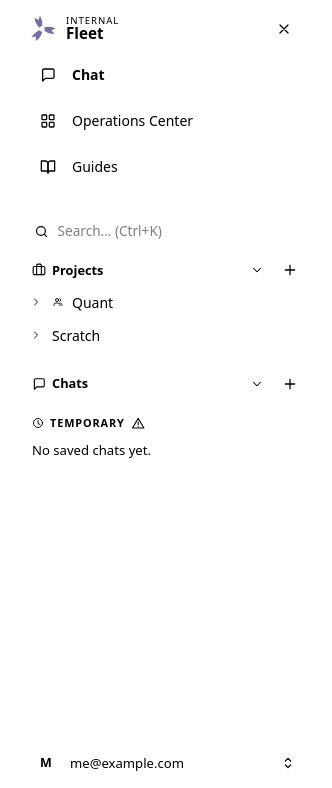
Test: ConversationSidebar — a project's empty state is viewer-aware › says one chat in the singular
The width and height of the screenshot is (332, 788).
Click the button named "Project Quant (0 chats)".
click(36, 302)  # box [24,290,48,314]
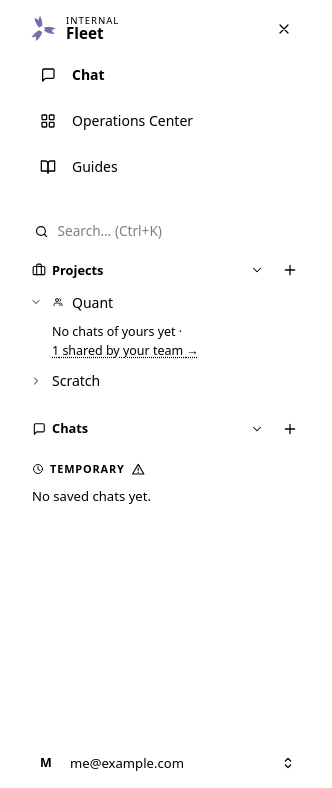
Now the button with aria-label "Open Quant — 1 chat shared by your team" shows "1 shared by your team", box [52,342,199,360]
